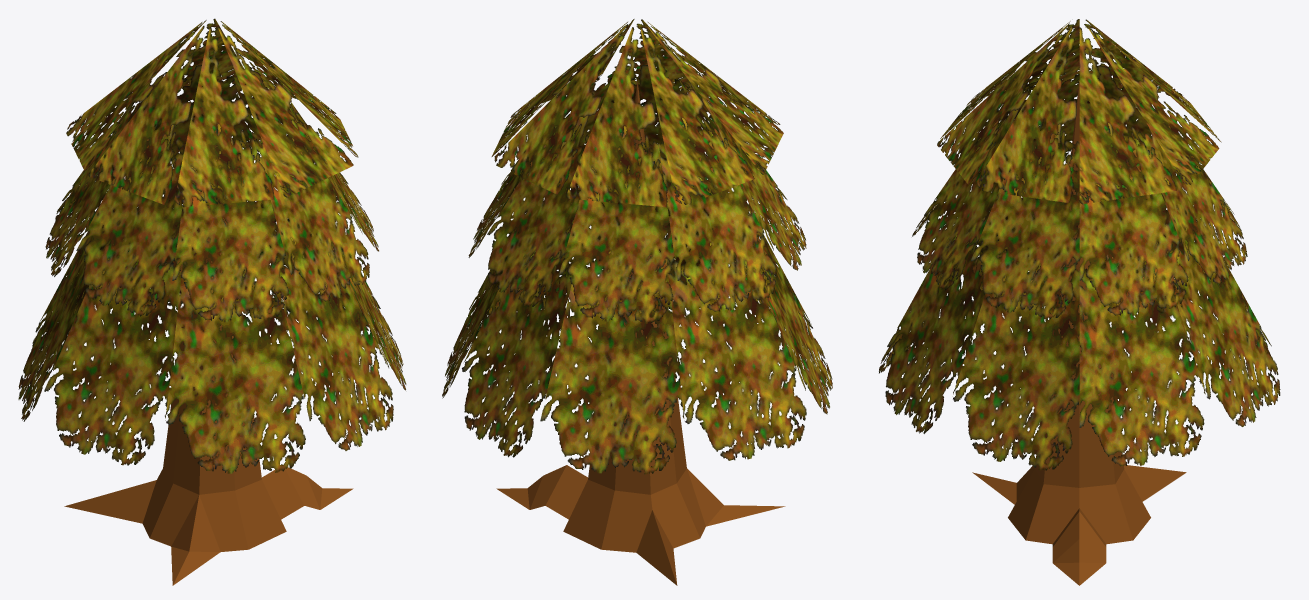
The model's file is stree autumn.glb.
3 renders of one model, left to right at view 1: azimuth 30°, elevation 25°; view 2: azimuth 150°, elevation 25°; view 3: azimuth 270°, elevation 25°, orthographic.
Visible parts, largest first — view 1: tree2; view 2: tree2; view 3: tree2.
Boxes of the visible parts, <box> form: tree2: <box>18,18,406,585</box>; tree2: <box>442,19,832,585</box>; tree2: <box>879,19,1280,585</box>.
Size of the model in its own units: 1.62 by 2.09 by 1.62.
Materials: 2 (1 with a texture image).
